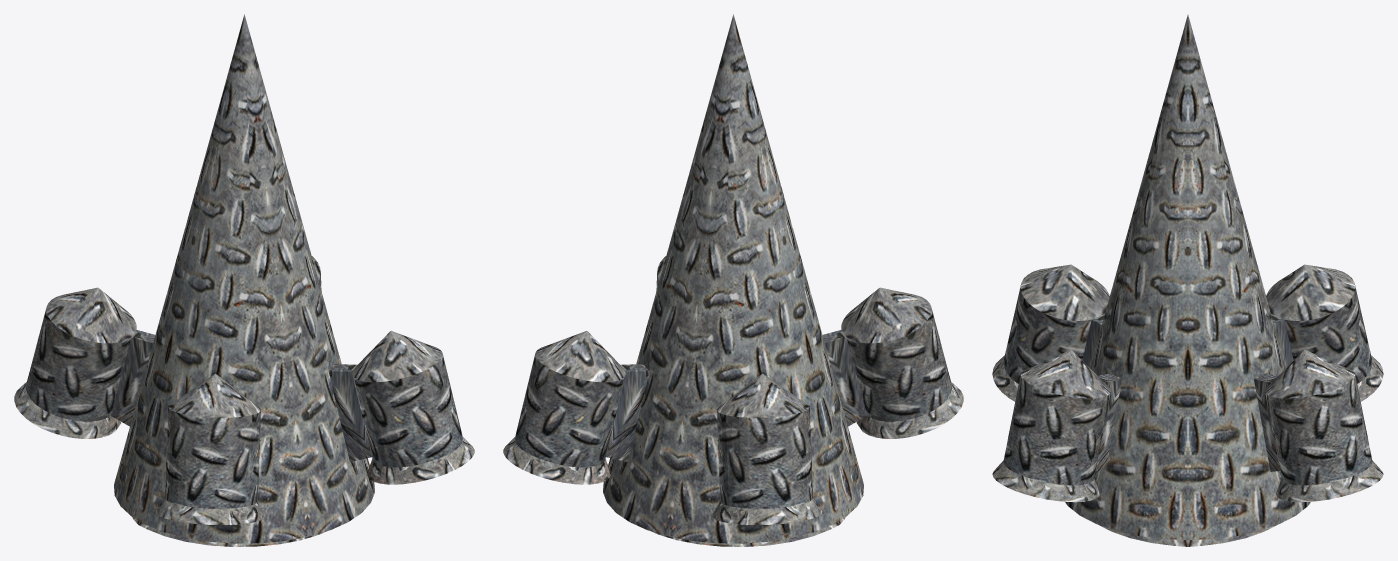
File: scout.fbx
The picture shows the model from 3 angles, left to right: view 1: azimuth 30°, elevation 25°; view 2: azimuth 150°, elevation 25°; view 3: azimuth 270°, elevation 25°; orthographic projection.
Parts seen in each view (by area): view 1: Cone; view 2: Cone; view 3: Cone.
Part boxes in pixels (box(x1,y1,x2,y2)): Cone: box(14, 14, 474, 546); Cone: box(503, 14, 963, 546); Cone: box(992, 15, 1383, 546).
Bounding box in the file's own units: 269 × 409 × 301.
